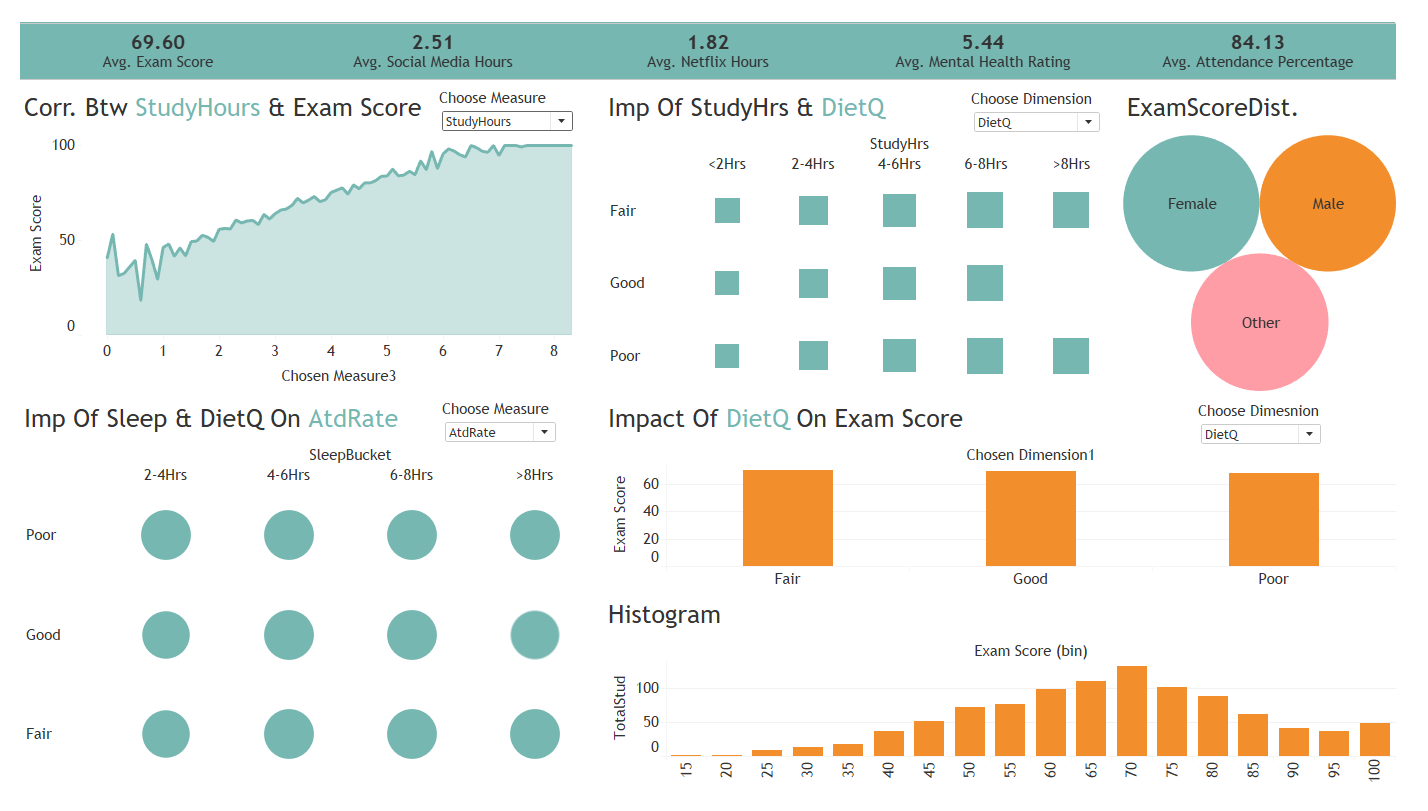

This screenshot's page, from the dashboard's own definition file:
{"tool":"tableau","page":{"name":"StudentPerformanceAnalysis","canvas":[1400,800],"ordinal":0},"visuals":[{"type":"worksheet","title":"Bands","mark":"Automatic","box":[8,8,1384,81]},{"type":"worksheet","title":"AreaChartMeasure","mark":"Area","rows":["exam_score","Exam Score (copy)_1125055484686401537"],"cols":["Calculation_809522035837775872"],"box":[8,89,584,311]},{"type":"worksheet","title":"HeatMapDimension","mark":"Square","rows":["Calculation_809522035859337226"],"cols":["Calculation_809522035856855048"],"box":[592,89,519,311]},{"type":"worksheet","title":"ExamScoreDistByGender","mark":"Circle","box":[1111,89,281,311]},{"type":"parameter","param":"[Parameters].[Parameter 1]","box":[431,93,137,47]},{"type":"parameter","param":"[Parameters].[Parameter 5]","box":[963,94,132,45]},{"type":"worksheet","title":"HeatmapMeasure","mark":"Circle","rows":["diet_quality"],"cols":["Calculation_809522035850543108"],"box":[8,400,584,392]},{"type":"worksheet","title":"Impact of Dimension On Exam Score","mark":"Automatic","rows":["Exam Score (copy)_1125055484686401537"],"cols":["Calculation_809522035841949697"],"box":[592,400,800,196]},{"type":"parameter","param":"[Parameters].[Parameter 4]","box":[434,404,117,45]},{"type":"parameter","param":"[Parameters].[Parameter 2]","box":[1190,406,126,45]},{"type":"worksheet","title":"Histogram","mark":"Automatic","rows":["Exam Score (copy)_1125055484686401537"],"cols":["Exam Score (bin)"],"box":[592,596,800,196]}]}

Visuals, with their boxes in screenshot pixels (x1, y1, x2, y2), scaled from the page's 1400x800 canvas onto the 1428x811 screenshot:
"Bands" worksheet: x1=8 y1=8 x2=1420 y2=90
"AreaChartMeasure" worksheet (Area marks): x1=8 y1=90 x2=604 y2=406
"HeatMapDimension" worksheet (Square marks): x1=604 y1=90 x2=1133 y2=406
"ExamScoreDistByGender" worksheet (Circle marks): x1=1133 y1=90 x2=1420 y2=406
parameter: x1=440 y1=94 x2=579 y2=142
parameter: x1=982 y1=95 x2=1117 y2=141
"HeatmapMeasure" worksheet (Circle marks): x1=8 y1=406 x2=604 y2=803
"Impact of Dimension On Exam Score" worksheet: x1=604 y1=406 x2=1420 y2=604
parameter: x1=443 y1=410 x2=562 y2=455
parameter: x1=1214 y1=412 x2=1342 y2=457
"Histogram" worksheet: x1=604 y1=604 x2=1420 y2=803
